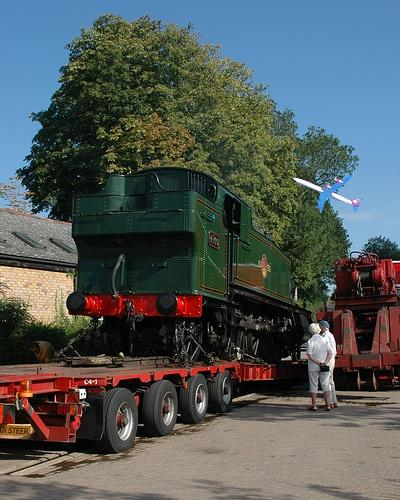tampered: (294, 175, 363, 213)
